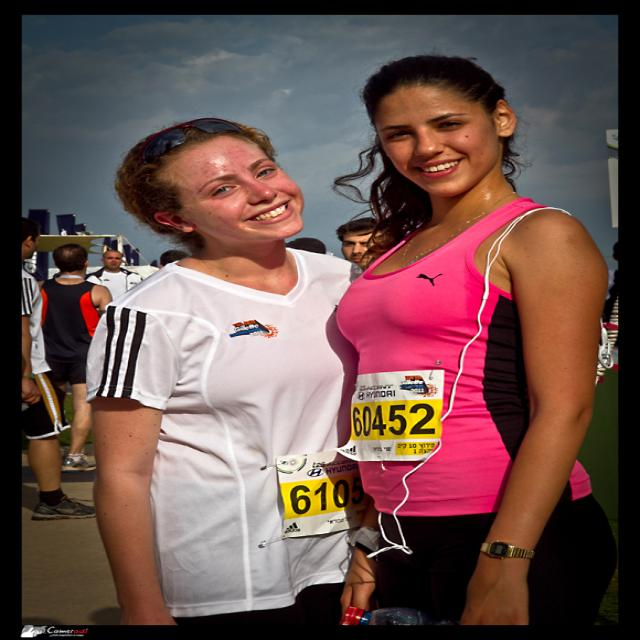Bib: (280, 470, 364, 520), (352, 403, 441, 436)
